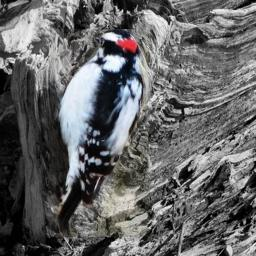Woodpecker: (45, 29, 150, 237)
